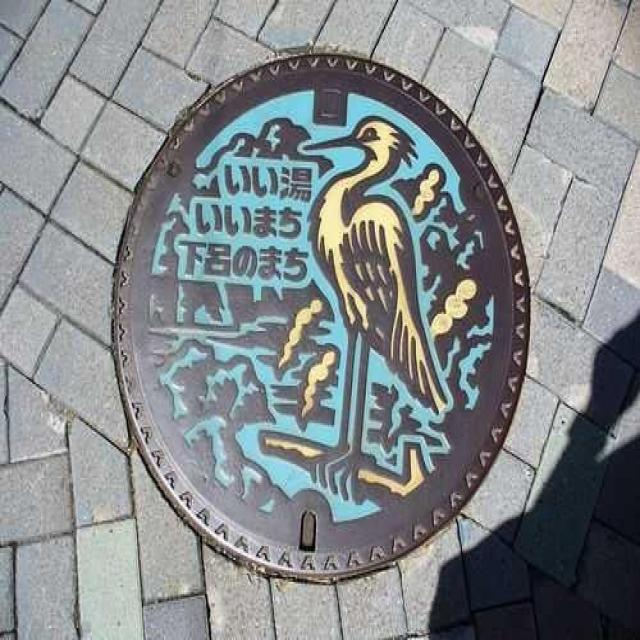manhole: (114, 53, 530, 581)
